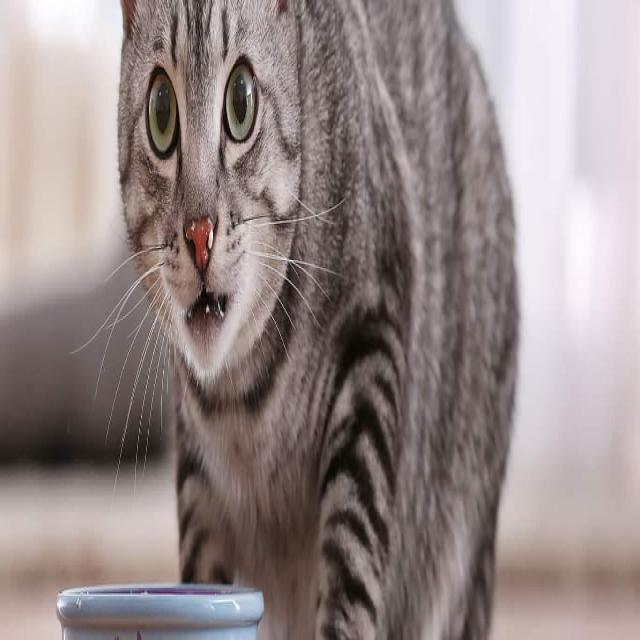Cat: (110, 0, 319, 399)
